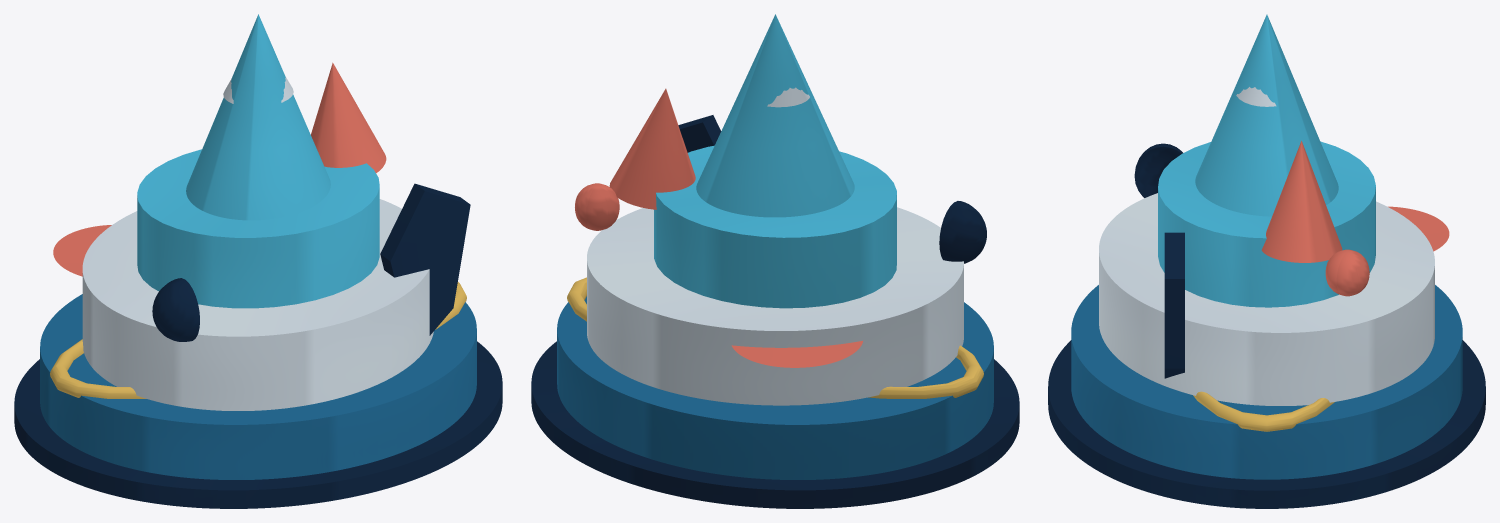
The model's file is 0646_地貌图鉴_海浪堆积地貌.glb.
3 views of the same model, side by side, from view 1: azimuth 30°, elevation 25°; view 2: azimuth 150°, elevation 25°; view 3: azimuth 270°, elevation 25° (orthographic).
Visible parts, largest first — view 1: card_0646; view 2: card_0646; view 3: card_0646.
Part boxes in pixels (x1=…): card_0646: x1=14, y1=14, x2=502, y2=508; card_0646: x1=531, y1=14, x2=1019, y2=508; card_0646: x1=1048, y1=14, x2=1485, y2=508.
Size of the model in its own units: 1.14 by 1 by 1.01.
